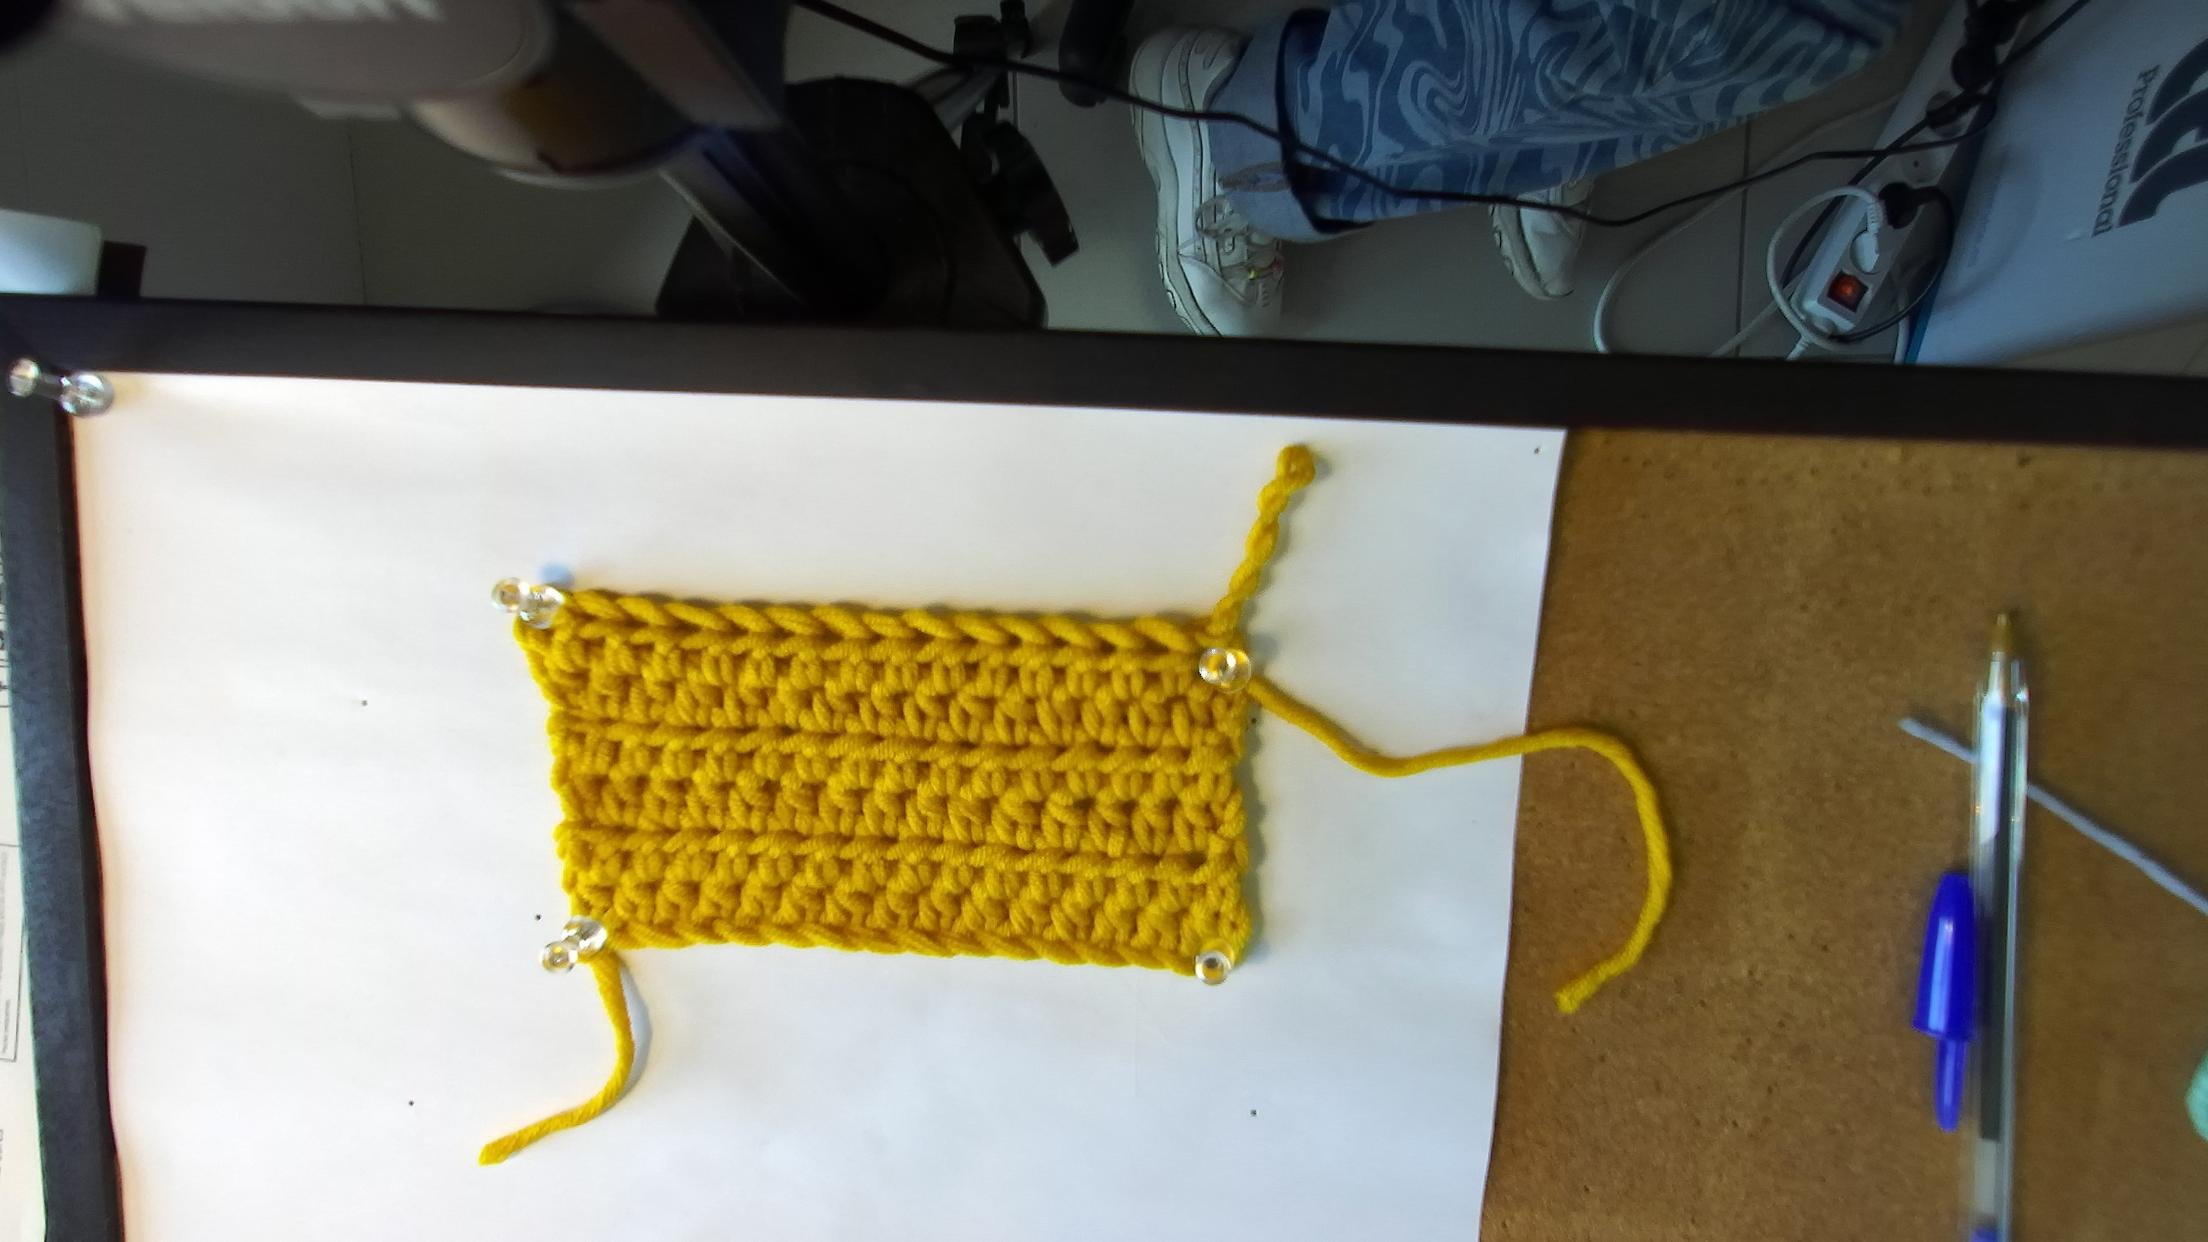hole: (614, 613, 651, 632), (811, 623, 846, 643), (763, 622, 796, 640), (719, 620, 749, 638), (910, 628, 937, 648), (672, 619, 707, 634), (864, 626, 889, 646), (1146, 637, 1171, 657), (567, 611, 602, 625), (1049, 632, 1071, 649), (1098, 638, 1118, 655), (1005, 634, 1022, 651), (960, 632, 980, 645)
swatch: (491, 582, 1259, 1024)
